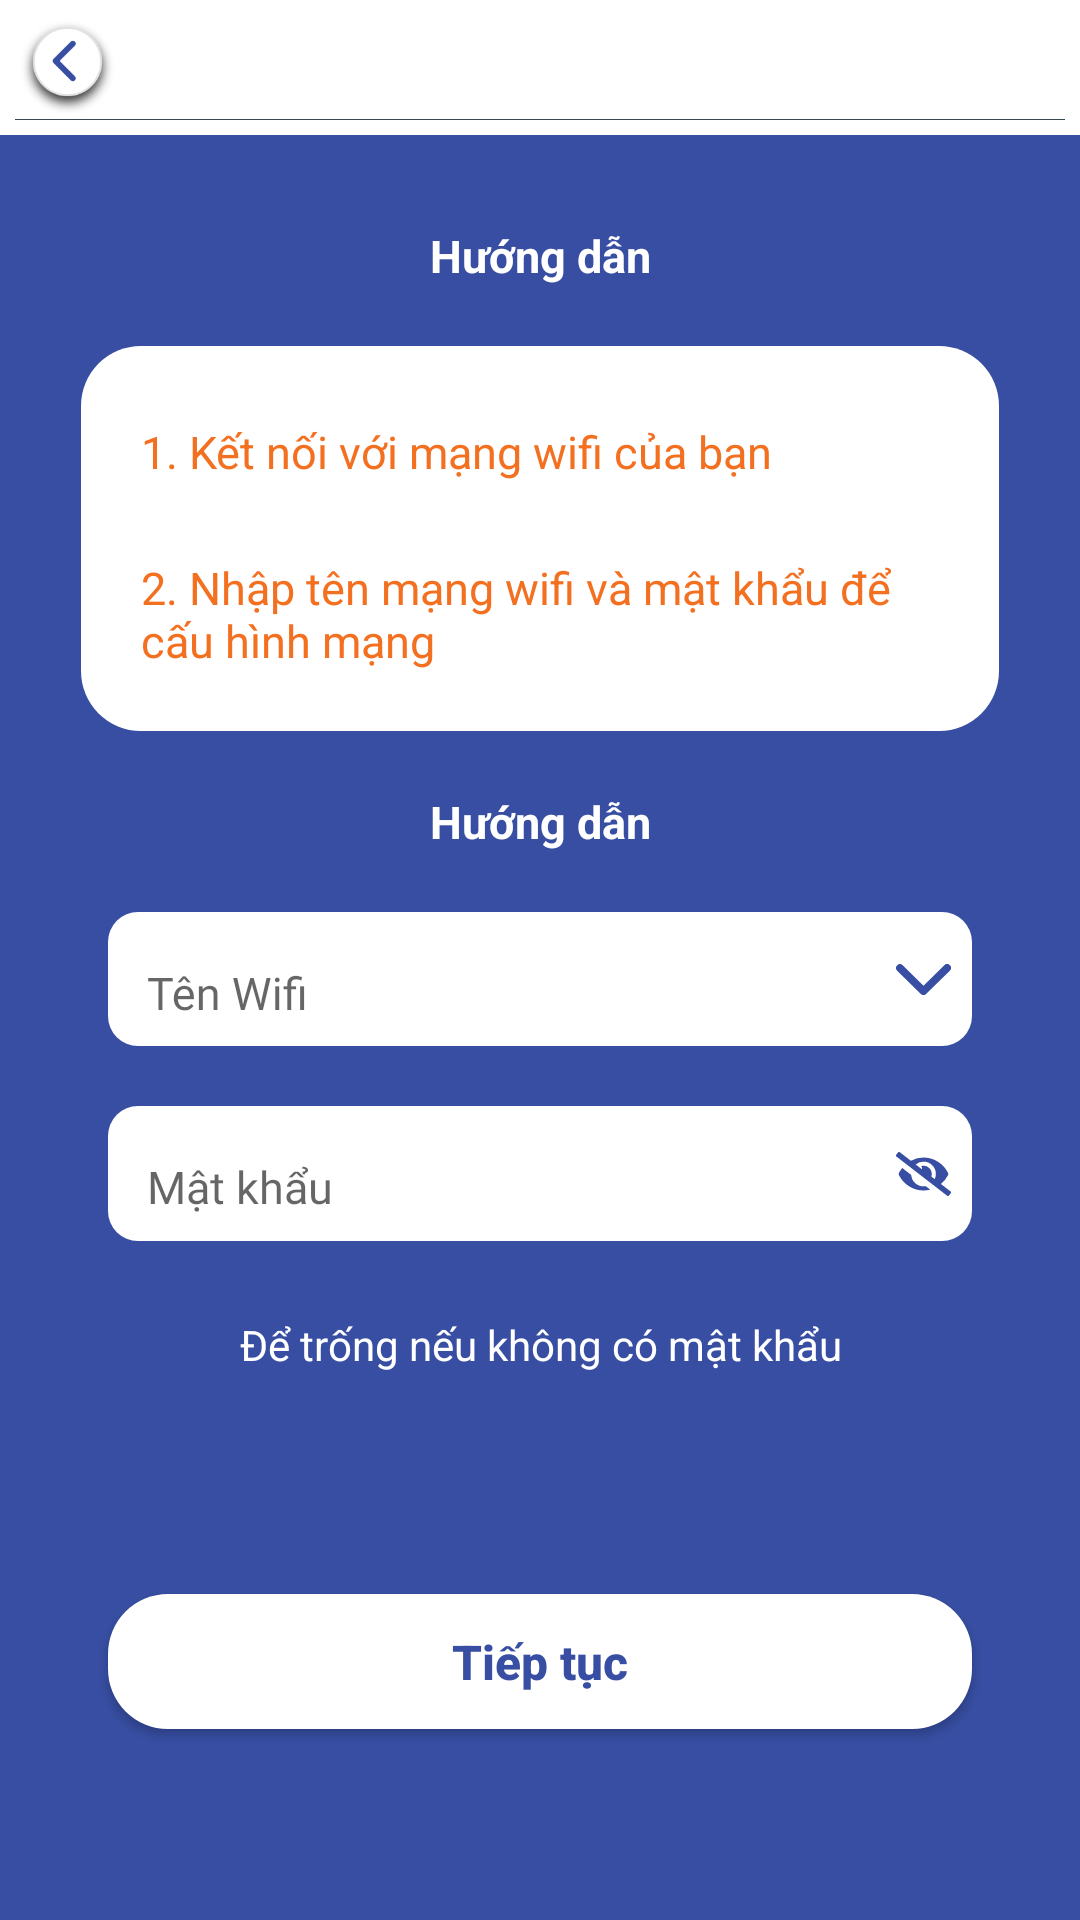

Where icons sit on this 1080×1920 app screen, as region(x1, y1, x2, y2):
arrow down: region(896, 964, 951, 995)
back circle: region(27, 27, 108, 108)
